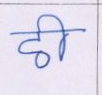i_matra: (42, 13, 69, 62)
